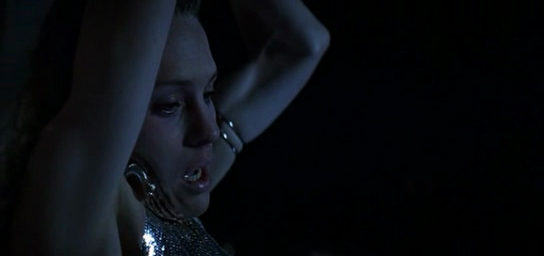cu: (1, 1, 544, 256)
face: (138, 33, 221, 217)
person: (1, 1, 332, 256)
